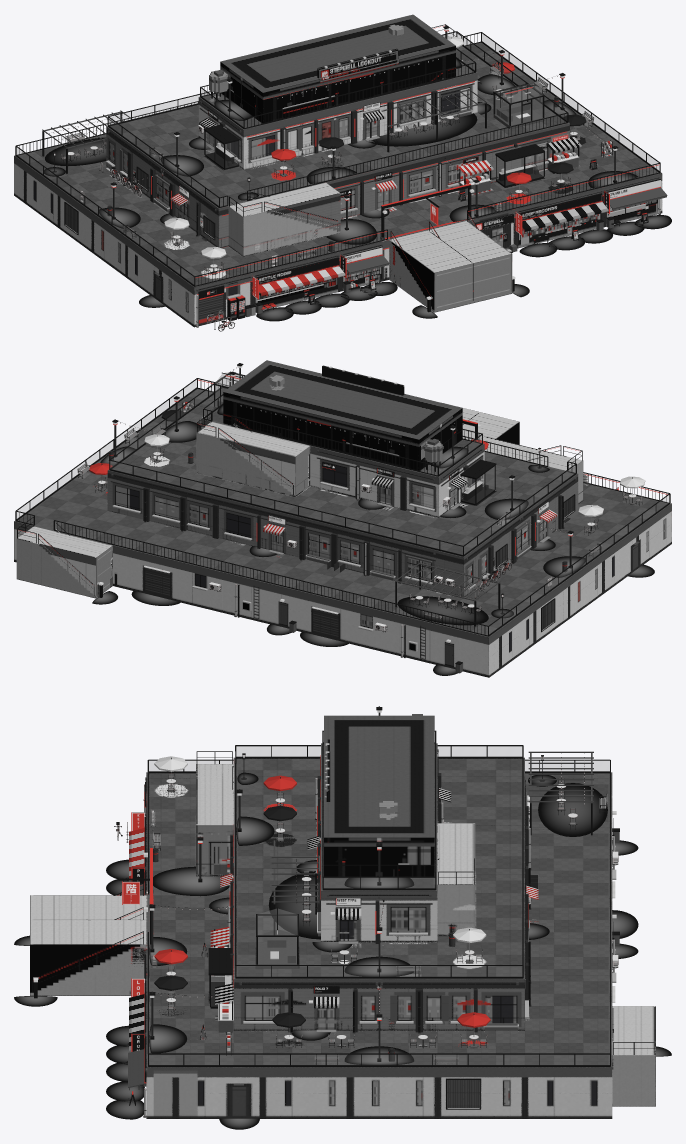
The model's file is stepwell-DK6sB99a.glb.
The picture shows the model from 3 angles, top to bottom: view 1: azimuth 30°, elevation 25°; view 2: azimuth 150°, elevation 25°; view 3: azimuth 270°, elevation 25°; orthographic projection. The views are drawn at different scales.
Parts seen in each view (by area): view 1: farBaked, body, add, glass, glow; view 2: farBaked, body, glass, add, glow; view 3: farBaked, body, add, glass, glow.
Part boxes in pixels (x1,y1,x2,y2): farBaked: (14,14,662,327); body: (14,24,667,331); add: (44,58,671,321); glass: (16,32,659,284); glow: (53,25,660,319); farBaked: (14,360,671,677); body: (14,363,671,677); glass: (17,372,669,634); add: (92,405,654,675); glow: (18,366,667,642); farBaked: (30,715,655,1118); body: (34,706,655,1118); add: (14,772,671,1129); glass: (149,746,609,1064); glow: (33,710,616,1108).
Size of the model in its own units: 51.6 by 15.7 by 45.2.
Materials: 5 (5 with a texture image).
